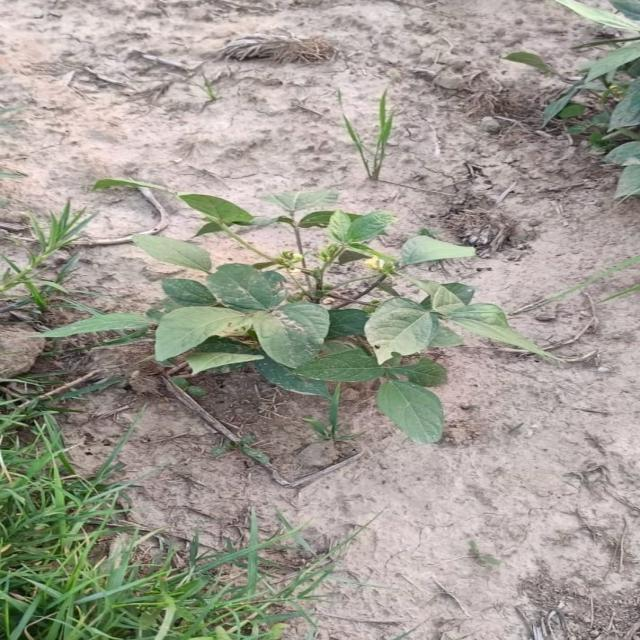plant: (44, 190, 546, 442)
weed: (46, 190, 553, 442)
